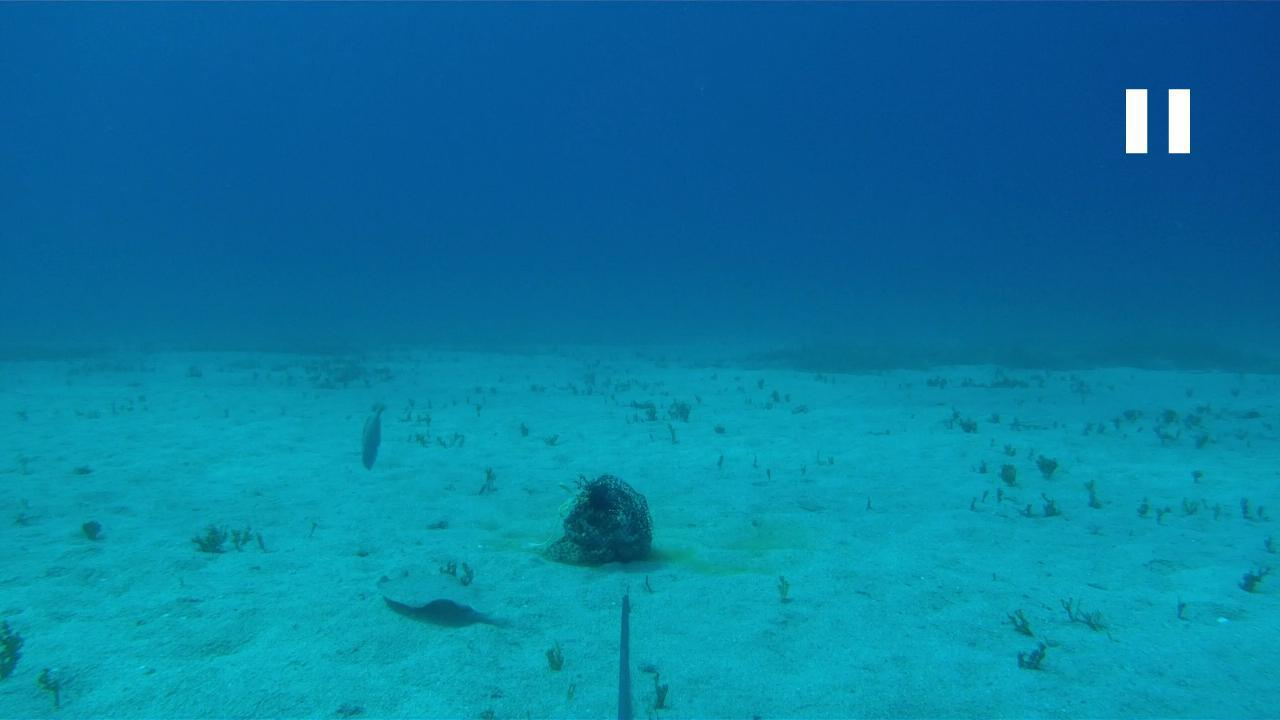bothus: (374, 568, 506, 618)
